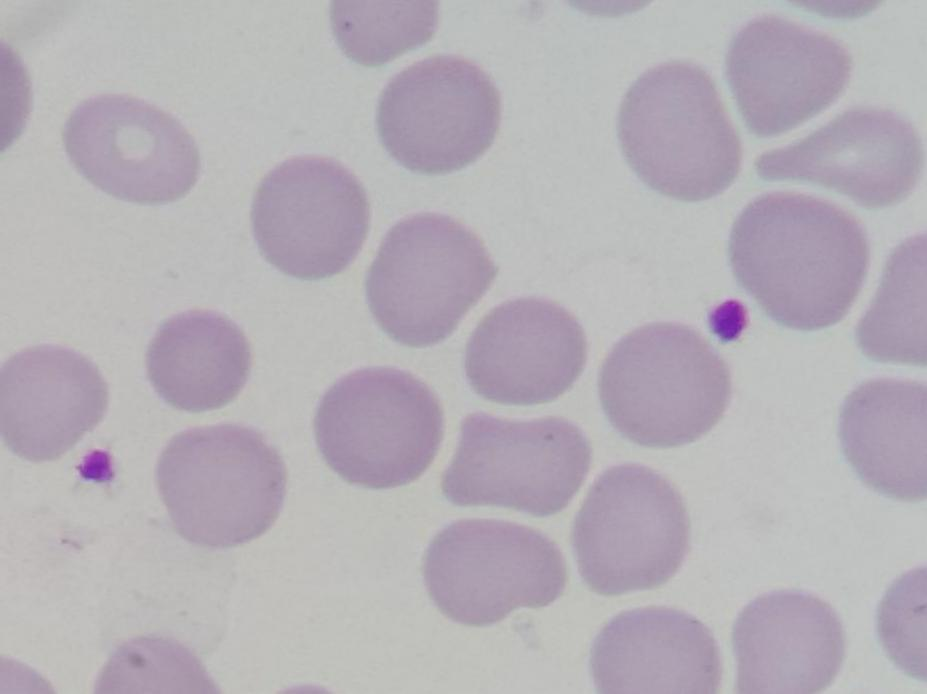Uninfected: (730, 192, 869, 332), (361, 209, 494, 347), (618, 61, 742, 202), (755, 109, 926, 209), (599, 319, 728, 450), (312, 368, 446, 490), (60, 91, 199, 208), (154, 423, 284, 547), (424, 519, 569, 628), (571, 463, 691, 594), (444, 409, 591, 514), (376, 54, 503, 173), (728, 16, 852, 137), (250, 156, 370, 281), (465, 296, 586, 406), (0, 345, 111, 464), (591, 604, 723, 694), (730, 589, 842, 694), (838, 374, 927, 499), (146, 309, 253, 410)
